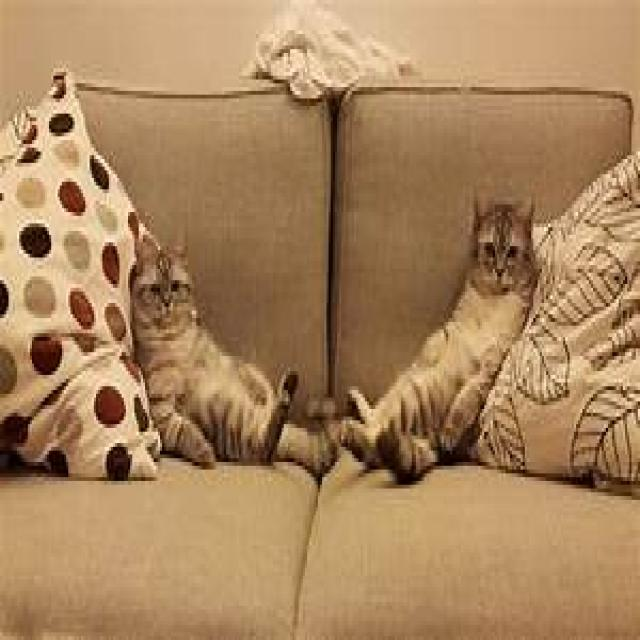animal: (337, 193, 540, 481), (128, 231, 339, 477)
